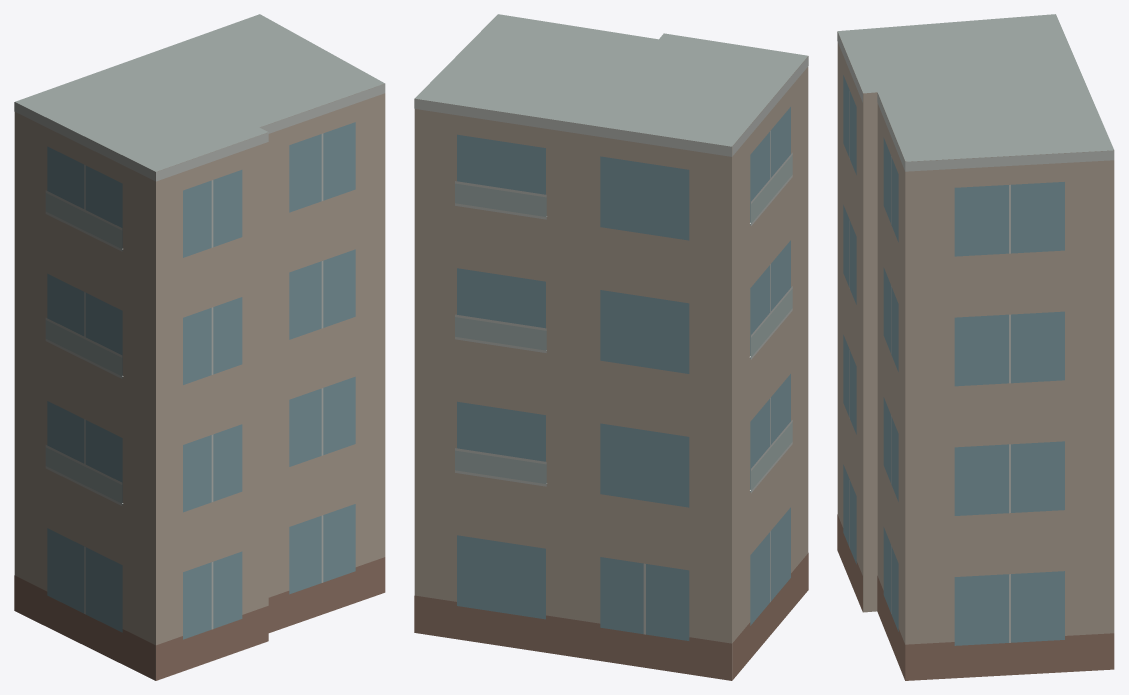
File: survey-upis-32505703.glb
3 renders of one model, left to right at view 1: azimuth 30°, elevation 25°; view 2: azimuth 150°, elevation 25°; view 3: azimuth 270°, elevation 25°, orthographic. The views are drawn at different scales.
Parts seen in each view (by area): view 1: survey-upis-32505703.tmp; view 2: survey-upis-32505703.tmp; view 3: survey-upis-32505703.tmp.
Boxes of the visible parts, x1,y1,x2,y2 form: survey-upis-32505703.tmp: [14, 14, 385, 680]; survey-upis-32505703.tmp: [414, 14, 808, 680]; survey-upis-32505703.tmp: [837, 14, 1114, 680].
Size of the model in its own units: 7.82 by 12.8 by 6.2.
